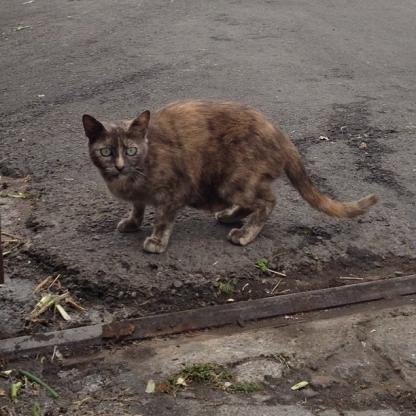Target: (78, 90, 381, 260)
